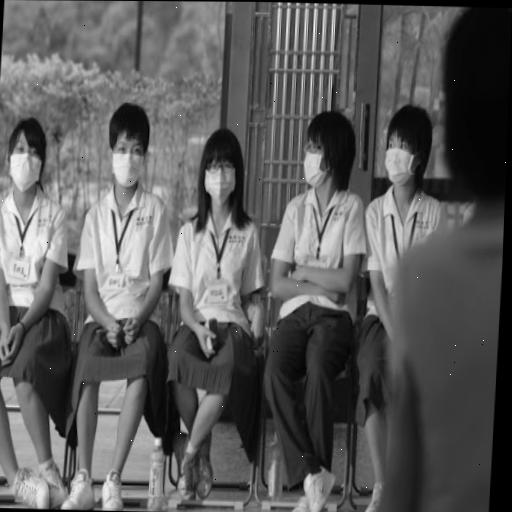mask: (298, 107, 365, 199), (377, 101, 436, 196), (195, 126, 250, 213), (105, 102, 153, 188), (2, 115, 50, 194)
